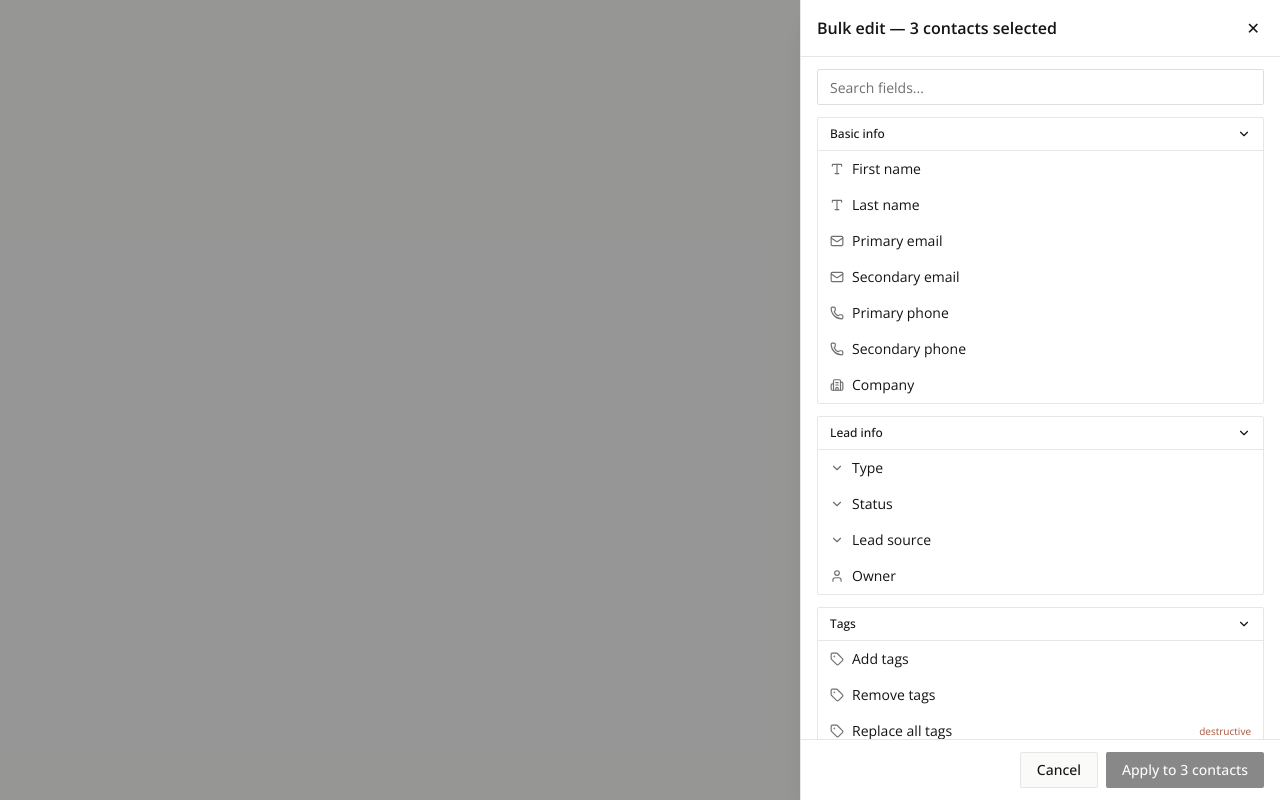
Test: BulkEditDrawer › search filters fields by label
Step 1. Type "email" into the field labelled "Search fields..." → coordinates (1040, 87), box 817,69 -> 1264,105
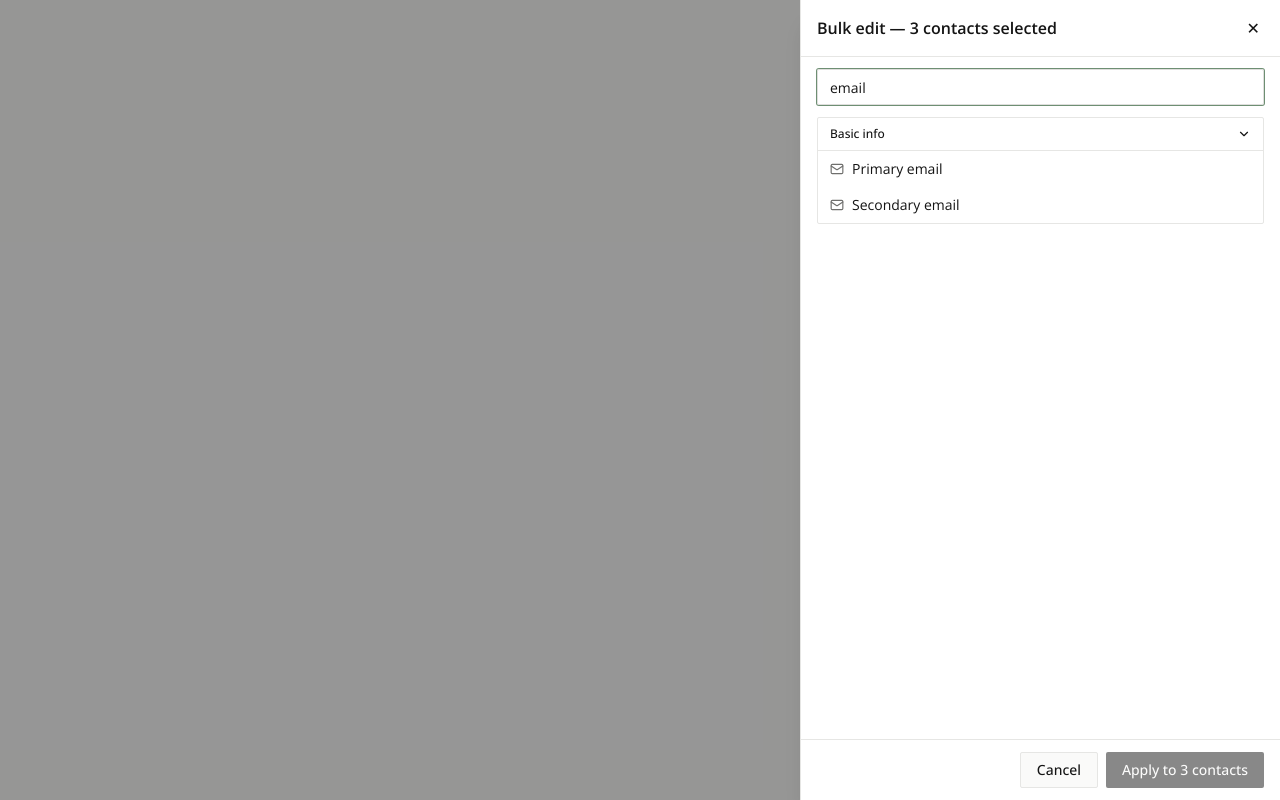
Expected: the button "Primary email" is shown, 818,151 -> 1263,187
Expected: the button "First name" is gone
